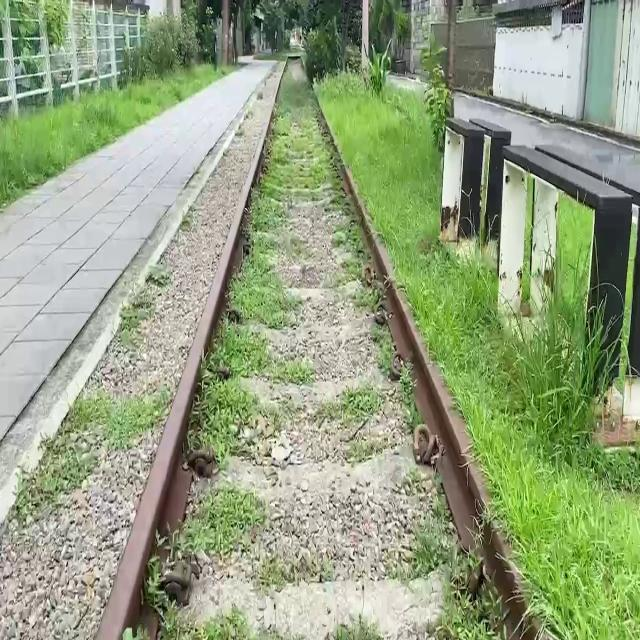rail-track: (150, 59, 468, 639)
